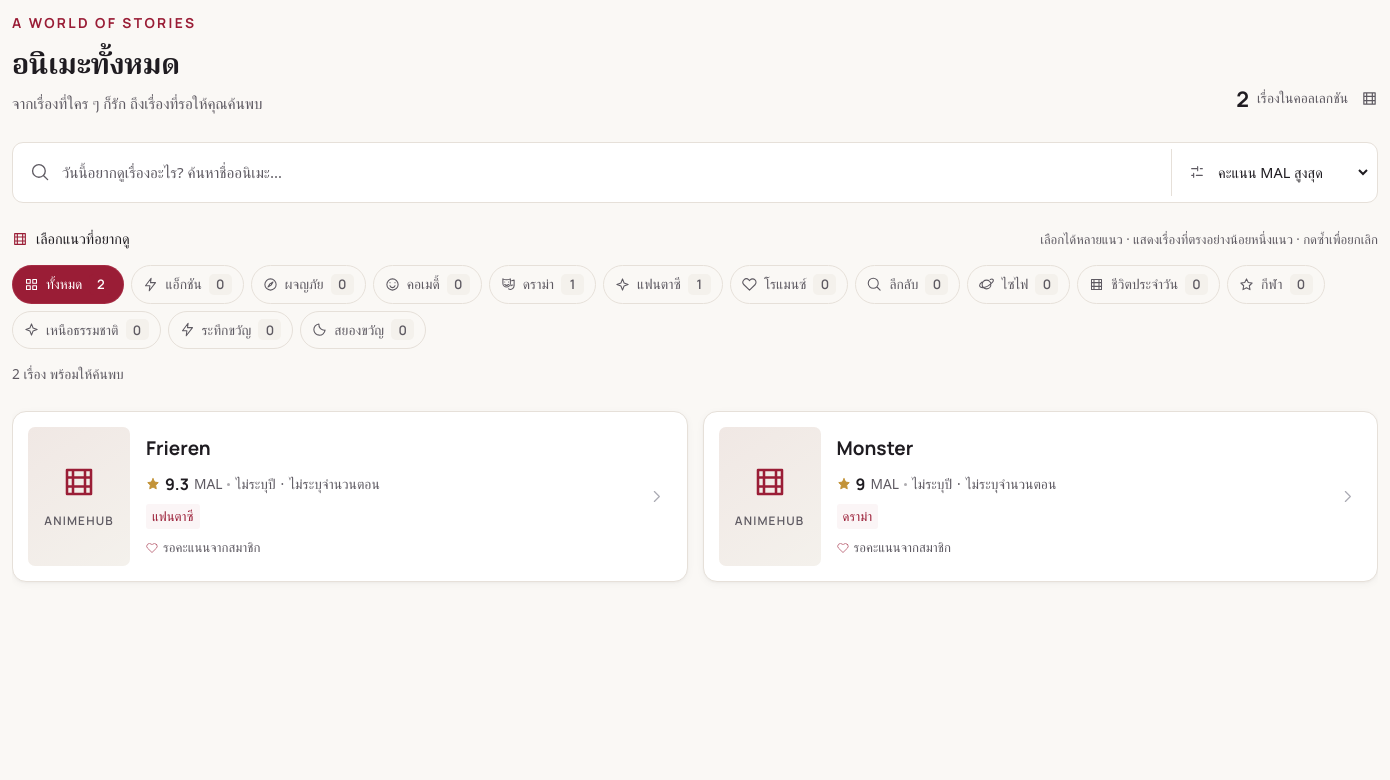
Test case: clearing a search keeps the chosen genre
This screenshot has width=1390, height=780.
Check: the heading "Frieren" is shown, box [146, 435, 211, 461]
Click the button "แฟนตาซี 1" at [663, 284], box [603, 265, 723, 304]
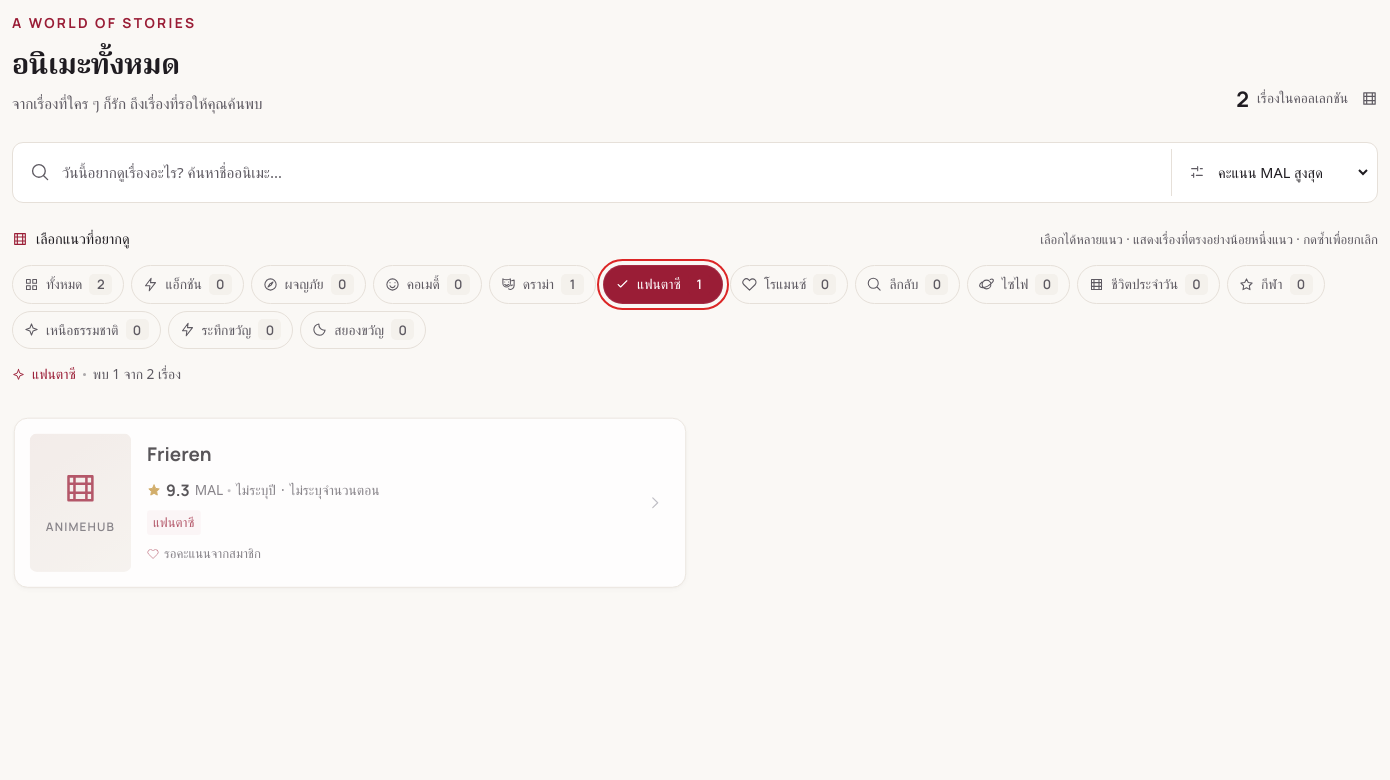
Type "missing" into the field named "ค้นหาอนิเมะ" at [612, 172], box [62, 149, 1161, 196]
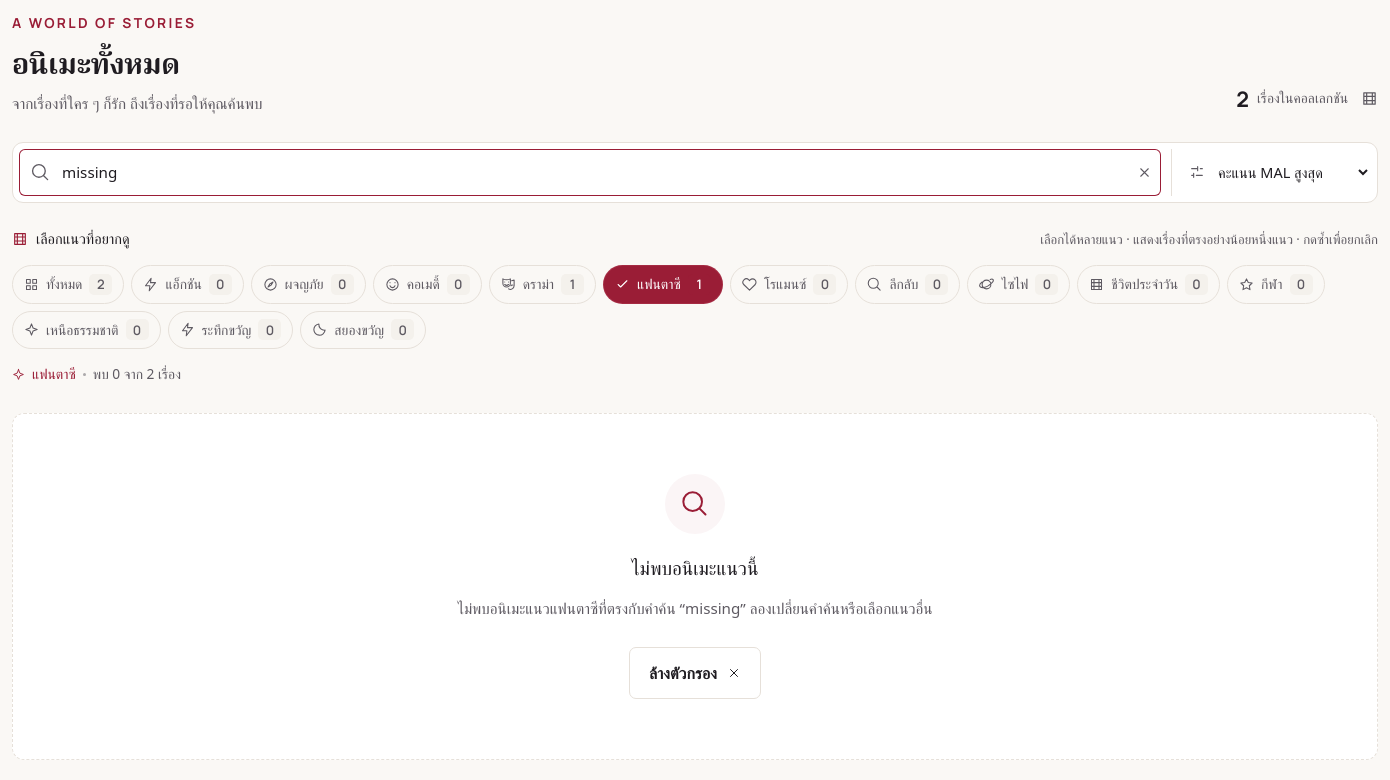
Click the button named "ล้างคำค้นหา" at [1144, 172], box [1127, 154, 1161, 190]
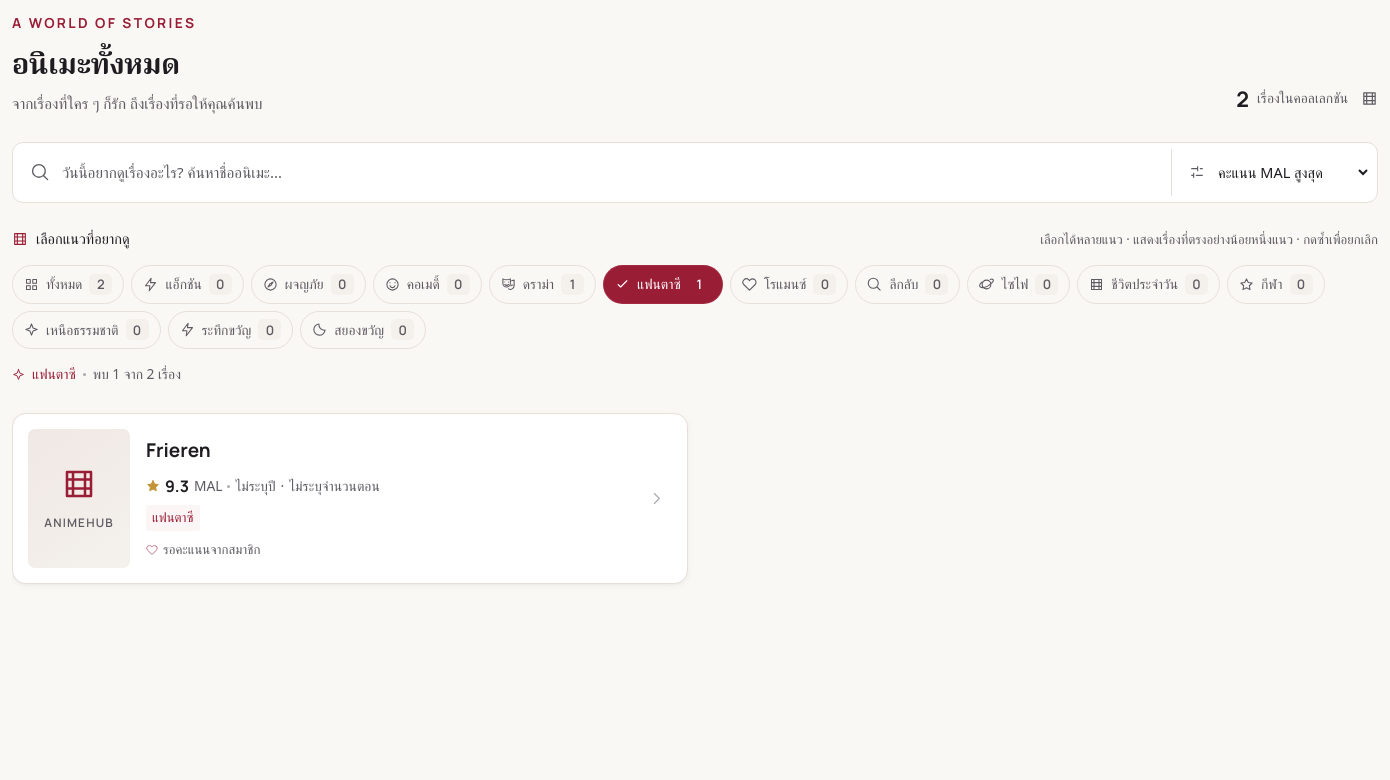
Check: the link "Monster" is not shown
Check: the heading "Frieren" is shown, box [146, 437, 211, 463]
